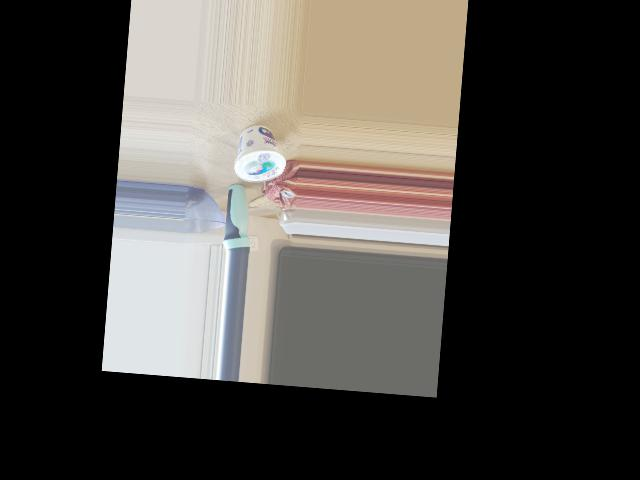cotage: (230, 120, 280, 187)
